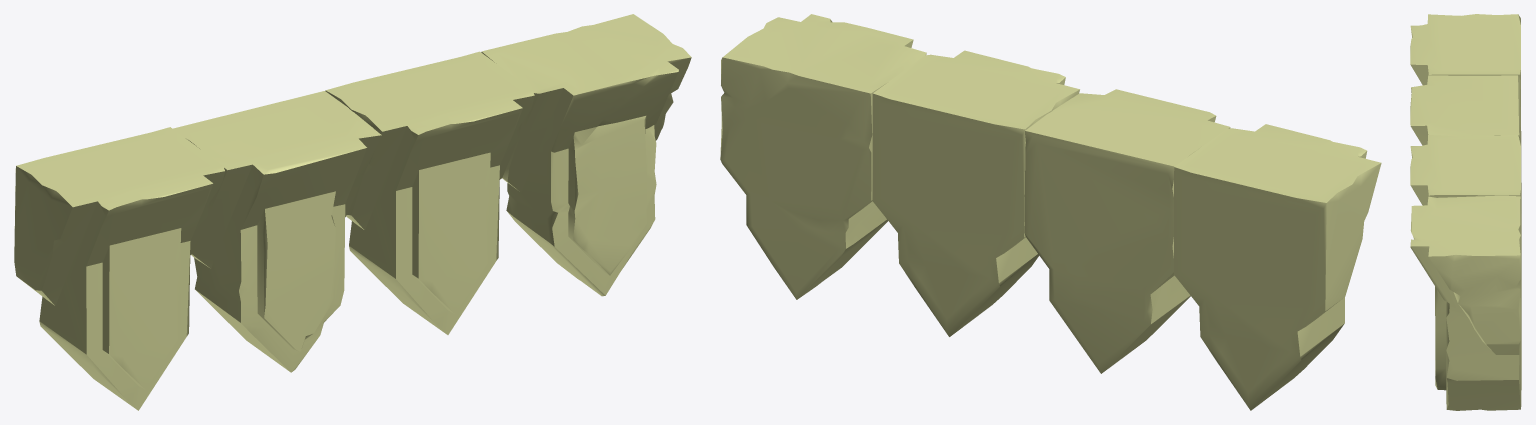
The model's file is stone_element_13_line_x4.fbx.
3 views of the same model, side by side, from view 1: azimuth 30°, elevation 25°; view 2: azimuth 150°, elevation 25°; view 3: azimuth 270°, elevation 25° (orthographic). The views are drawn at different scales.
Visible parts, largest first — view 1: stone_element_13_line_x4_LOD0; view 2: stone_element_13_line_x4_LOD0; view 3: stone_element_13_line_x4_LOD0.
Boxes of the visible parts, left/top/right/bottom form: stone_element_13_line_x4_LOD0: left=14, top=14, right=691, bottom=410; stone_element_13_line_x4_LOD0: left=720, top=14, right=1381, bottom=410; stone_element_13_line_x4_LOD0: left=1410, top=14, right=1521, bottom=410.
Bounding box in the file's own units: 371 × 132 × 72.19.
